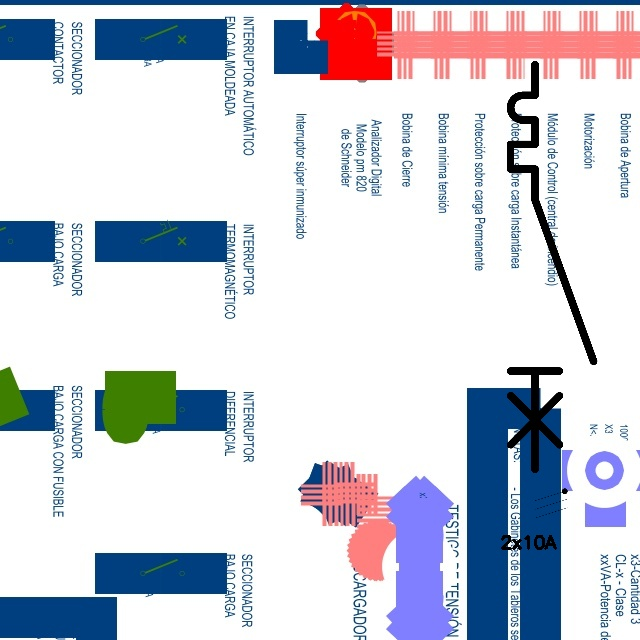interruptor_termomagnetico: (500, 54, 604, 480)
